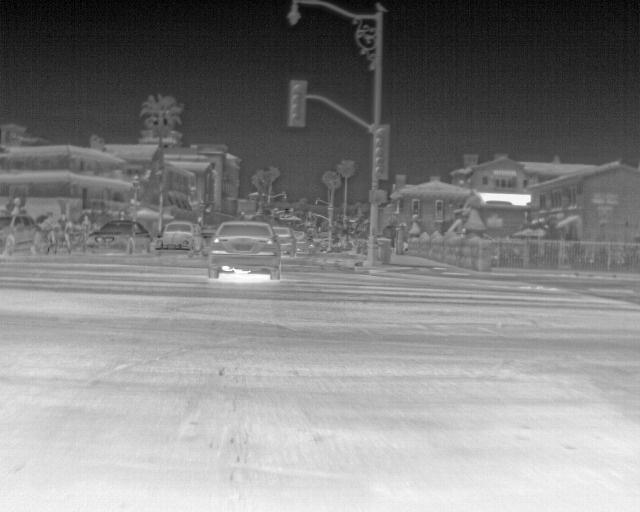bicycle: (203, 218, 282, 282), (83, 219, 152, 254), (2, 210, 36, 253), (157, 222, 202, 253), (269, 225, 296, 256), (293, 229, 309, 251)
